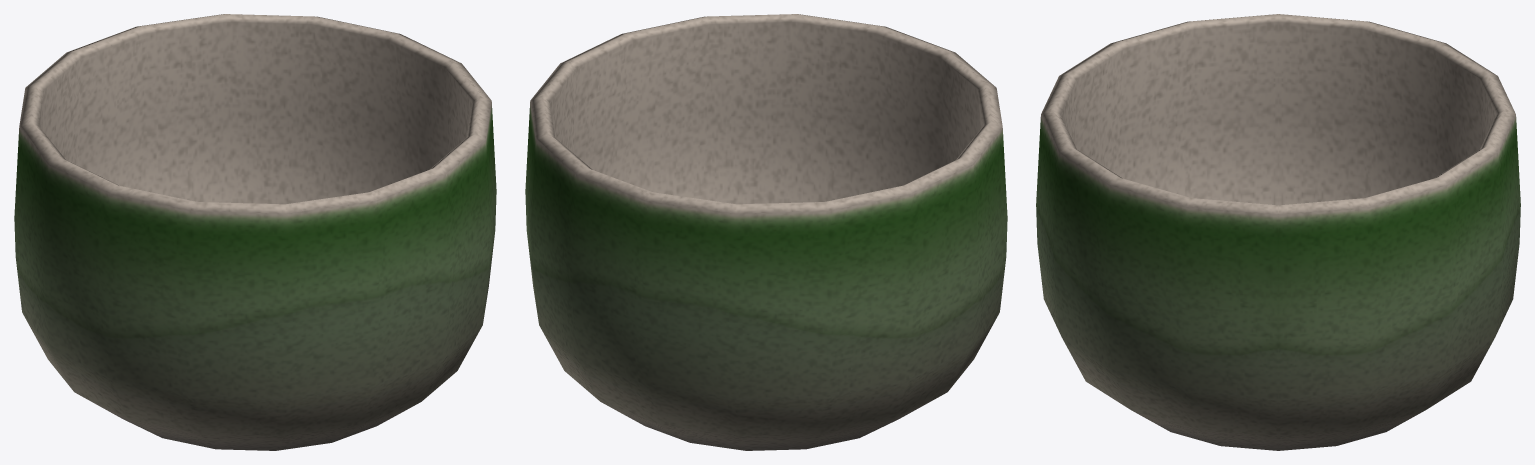
Rendered from Matcha_Bowl.fbx.
3 views of the same model, side by side, from view 1: azimuth 30°, elevation 25°; view 2: azimuth 150°, elevation 25°; view 3: azimuth 270°, elevation 25° (orthographic).
Parts seen in each view (by area): view 1: Matcha_Bowl; view 2: Matcha_Bowl; view 3: Matcha_Bowl.
Part boxes in pixels (x1,y1,x2,y2): Matcha_Bowl: (14,14,496,450); Matcha_Bowl: (525,14,1007,450); Matcha_Bowl: (1036,14,1520,450).
Size of the model in its own units: 35.48 by 22.35 by 35.48.
